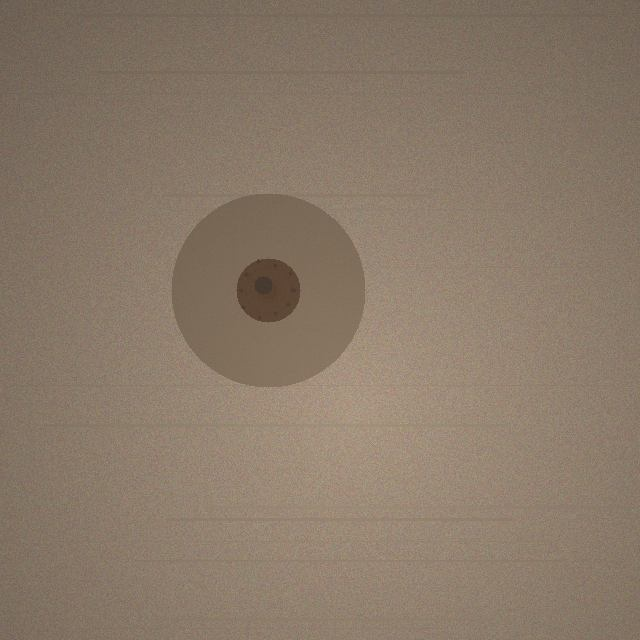cold_weld: (171, 193, 365, 387)
